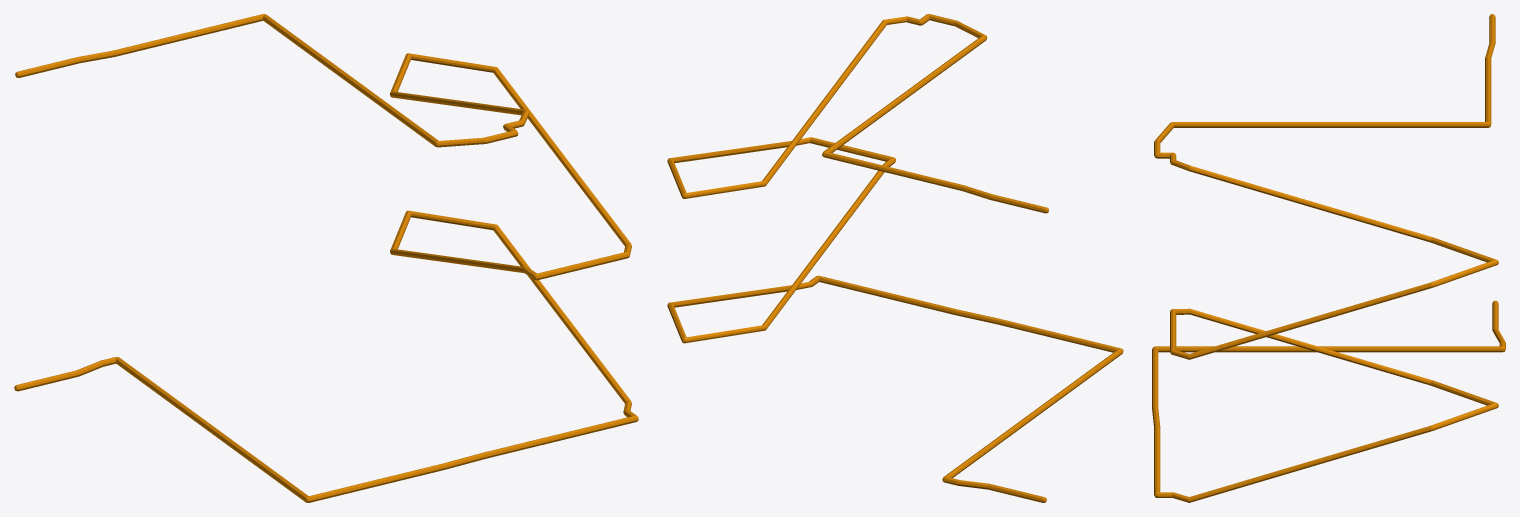
3 renders of one model, left to right at view 1: azimuth 30°, elevation 25°; view 2: azimuth 150°, elevation 25°; view 3: azimuth 270°, elevation 25°, orthographic. The views are drawn at different scales.
Bounding box in the file's own units: 1495 × 1020 × 1120.
